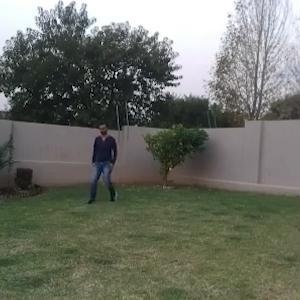follow: (88, 117, 117, 206)
